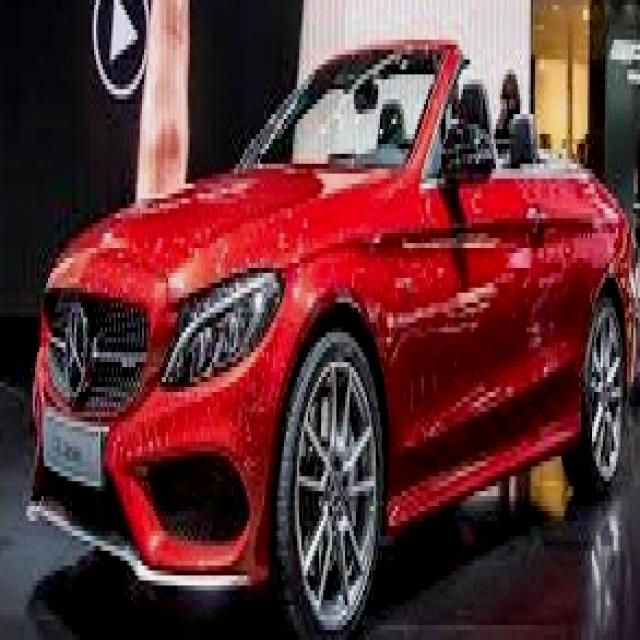red: (24, 5, 640, 585)
